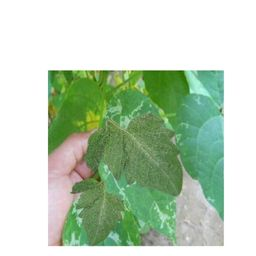liriomyza: (103, 163, 136, 212), (104, 97, 150, 130), (152, 198, 176, 229), (61, 230, 80, 246), (108, 230, 122, 246), (175, 133, 183, 145)
